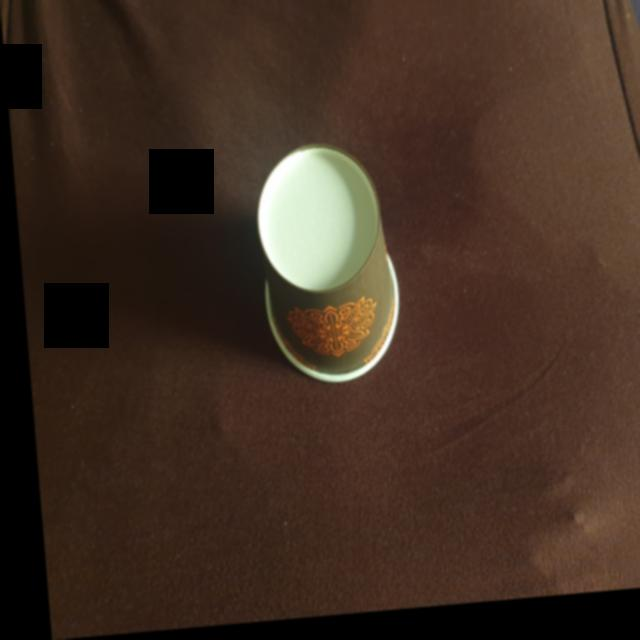cups: (240, 138, 409, 405)
